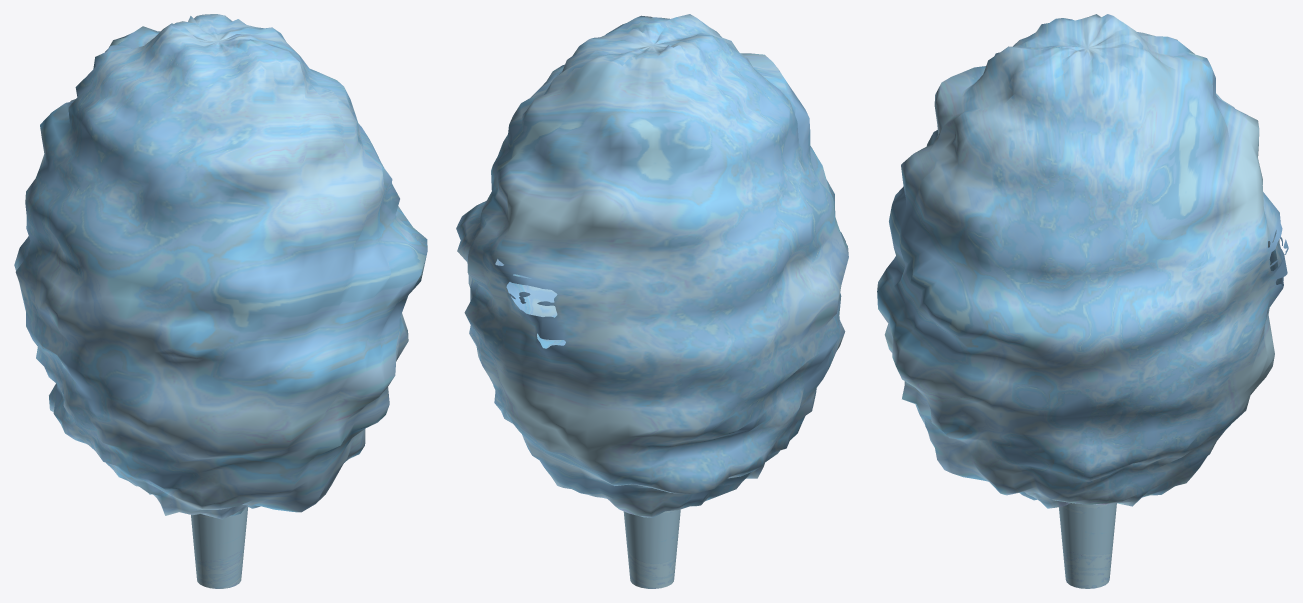
The model's file is Arbol3A.fbx.
3 renders of one model, left to right at view 1: azimuth 30°, elevation 25°; view 2: azimuth 150°, elevation 25°; view 3: azimuth 270°, elevation 25°, orthographic.
Visible parts, largest first — view 1: boom_011; view 2: boom_011; view 3: boom_011.
Part boxes in pixels (x1,y1,x2,y2): boom_011: [14, 14, 427, 588]; boom_011: [456, 14, 848, 588]; boom_011: [877, 14, 1288, 588].
Bounding box in the file's own units: 59.96 × 90.53 × 61.66.
Materials: 1 (1 with a texture image).
